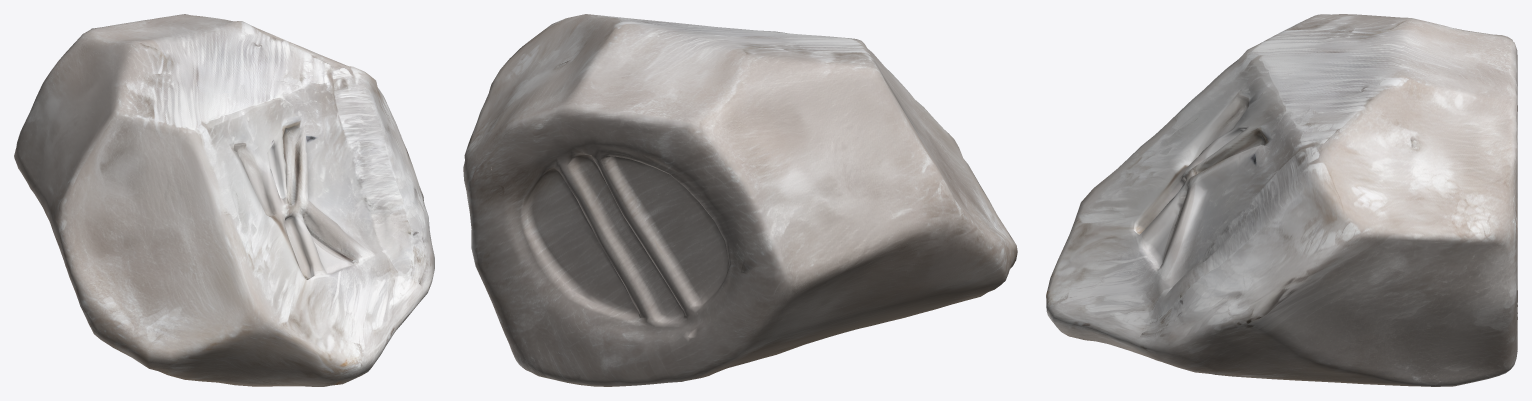
The model's file is potassium.glb.
The picture shows the model from 3 angles, left to right: view 1: azimuth 30°, elevation 25°; view 2: azimuth 150°, elevation 25°; view 3: azimuth 270°, elevation 25°; orthographic projection. The views are drawn at different scales.
Visible parts, largest first — view 1: model; view 2: model; view 3: model.
Boxes of the visible parts, x1,y1,x2,y2 form: model: [14, 14, 434, 386]; model: [463, 14, 1017, 386]; model: [1046, 14, 1517, 386].
Size of the model in its own units: 1.75 by 1.22 by 1.8.
1 material, 1 textured.
